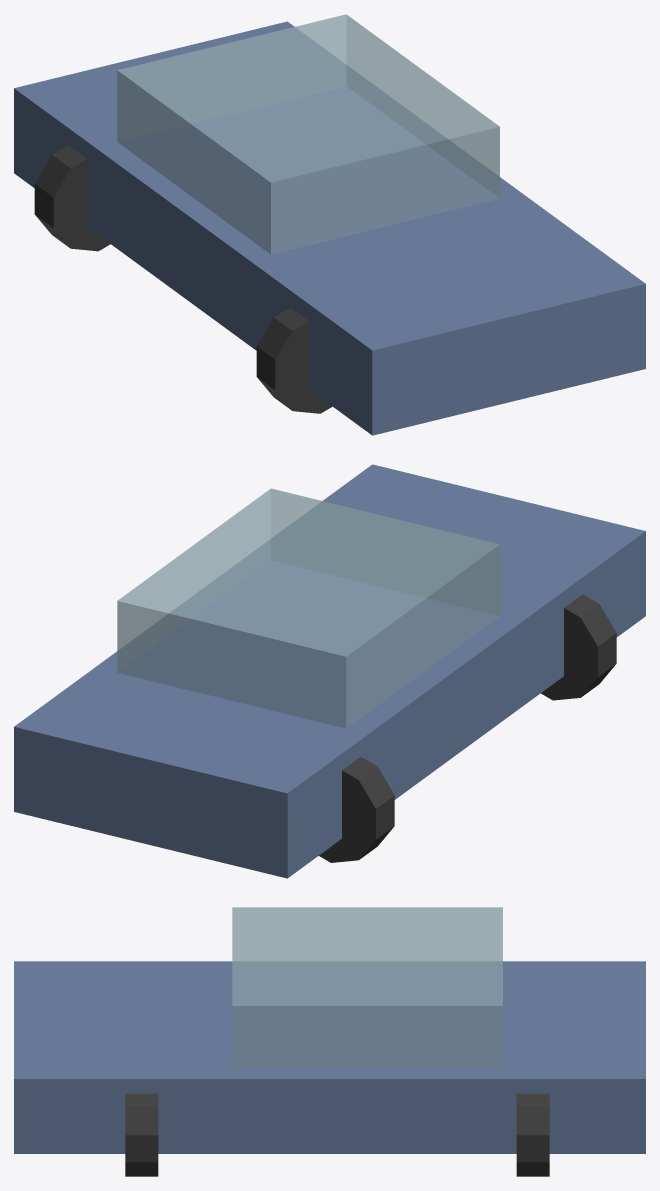
File: car_sedan.glb
3 views of the same model, one above another, from view 1: azimuth 30°, elevation 25°; view 2: azimuth 150°, elevation 25°; view 3: azimuth 270°, elevation 25° (orthographic). The views are drawn at different scales.
Visible parts, largest first — view 1: Body, Cabin, Wheel_1_-1, Wheel_0_-1; view 2: Body, Cabin, Wheel_0_-1, Wheel_1_-1; view 3: Body, Cabin, Wheel_0_1, Wheel_1_1.
Boxes of the visible parts, x1,y1,x2,y2 form: Body: (14,21,645,435); Cabin: (117,14,499,254); Wheel_1_-1: (256,307,332,413); Wheel_0_-1: (34,145,110,251); Body: (14,464,645,878); Cabin: (117,488,499,728); Wheel_0_-1: (319,757,394,862); Wheel_1_-1: (541,594,616,700); Body: (14,961,645,1153); Cabin: (232,907,502,1069); Wheel_0_1: (516,1093,549,1176); Wheel_1_1: (125,1093,158,1176).
Bounding box in the file's own units: 2.31 × 1.19 × 4.2.
